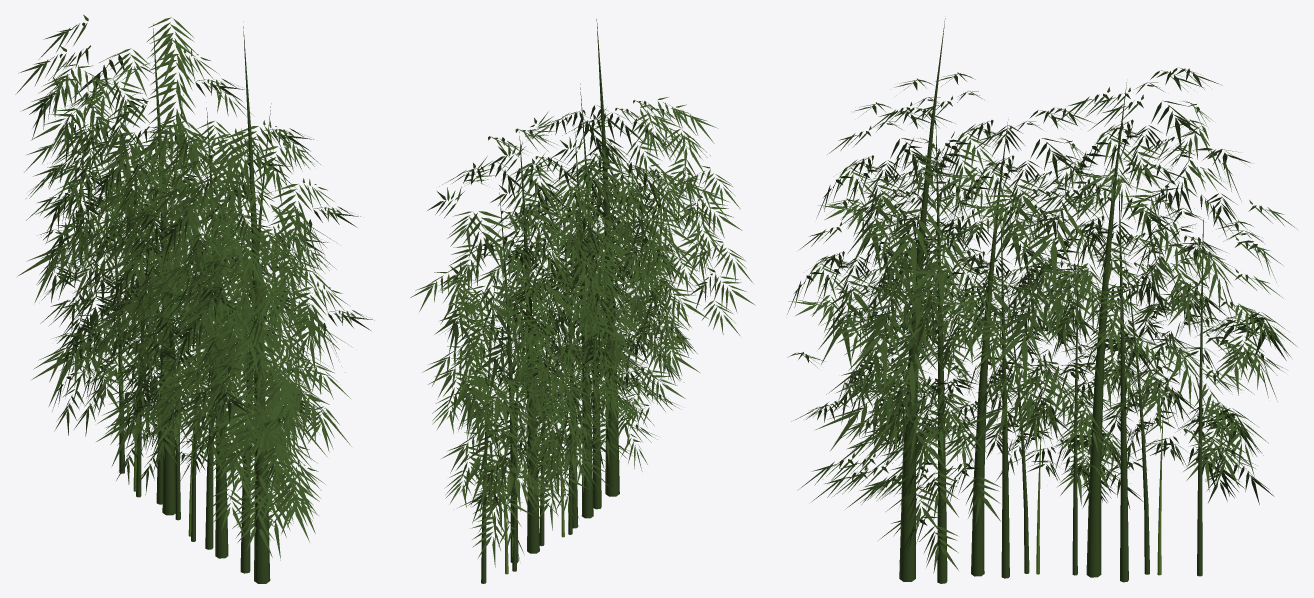
Rendered from bamboo_01.FBX.
3 renders of one model, left to right at view 1: azimuth 30°, elevation 25°; view 2: azimuth 150°, elevation 25°; view 3: azimuth 270°, elevation 25°, orthographic. The views are drawn at different scales.
Visible parts, largest first — view 1: Cone17, Cone07, Cone14, Cone16, Cone11, Rectangle214, Rectangle120, Rectangle2248, Rectangle2675, Rectangle2295, Rectangle117, Rectangle2557 (+28 smaller); view 2: Cone17, Cone07, Cone14, Cone16, Rectangle2068, Cone10, Rectangle127, Rectangle164, Rectangle186, Rectangle2444, Rectangle2672, Cone09 (+16 smaller); view 3: Cone07, Cone17, Cone14, Cone10, Cone16, Cone11, Cone09, Rectangle2250, Rectangle217, Cone08, Cone12, Rectangle2436 (+10 smaller).
Boxes of the visible parts, box(x1,y1,x2,y2) form: Cone17: box(243, 26, 270, 583); Cone07: box(153, 23, 175, 515); Cone14: box(206, 107, 228, 558); Cone16: box(240, 103, 271, 573); Cone11: box(205, 177, 229, 549); Rectangle214: box(93, 132, 151, 211); Rectangle120: box(146, 81, 195, 144); Rectangle2248: box(162, 182, 218, 259); Rectangle2675: box(31, 328, 100, 406); Rectangle2295: box(268, 209, 313, 272); Rectangle117: box(147, 33, 197, 90); Rectangle2557: box(286, 385, 351, 448); Cone17: box(596, 19, 619, 496); Cone07: box(519, 131, 539, 553); Cone14: box(574, 129, 593, 518); Cone16: box(580, 83, 601, 509); Rectangle2068: box(461, 211, 511, 280); Cone10: box(499, 188, 518, 563); Rectangle127: box(471, 330, 520, 393); Rectangle164: box(480, 383, 547, 443); Rectangle186: box(447, 380, 497, 449); Rectangle2444: box(475, 285, 523, 353); Rectangle2672: box(459, 454, 509, 522); Cone09: box(481, 283, 494, 583); Cone07: box(1086, 82, 1126, 577); Cone17: box(899, 18, 945, 581); Cone14: box(971, 119, 1008, 576); Cone10: box(1118, 174, 1128, 582); Cone16: box(935, 118, 947, 583); Cone11: box(1000, 202, 1009, 578); Cone09: box(1197, 219, 1203, 576); Rectangle2250: box(873, 209, 947, 291); Rectangle217: box(1014, 209, 1087, 292); Cone08: box(1122, 241, 1149, 574); Cone12: box(1072, 247, 1078, 575); Rectangle2436: box(985, 305, 1058, 388).
Size of the model in its own units: 1152 by 2662 by 2188.
